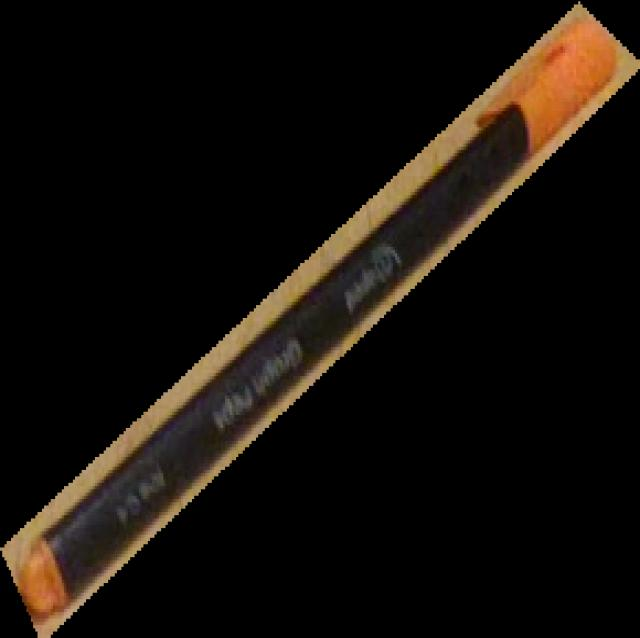orange: (0, 1, 640, 638)
